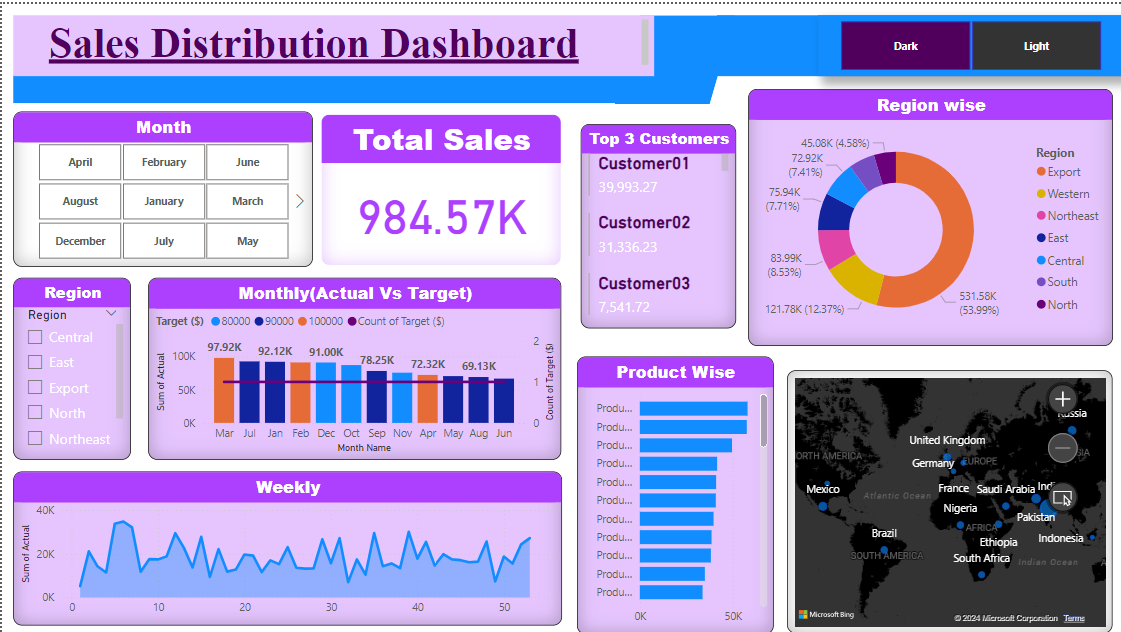

Layout of this report page (visuals, bound fields, positions):
{"tool":"powerbi","page":{"name":"Page 1","canvas":[1280,720],"ordinal":0},"visuals":[{"type":"slicer","title":"Month","fields":{"Values":["InputData.Month Name"]},"box":[12.2,122.3,342.4,177.3],"z":0},{"type":"card","title":"Total Sales","fields":{"Values":["Sum(InputData.Actual)"]},"box":[364.4,126,275.1,173.6],"z":1000},{"type":"slicer","title":"Region","fields":{"Values":["Country.Region"]},"box":[12.2,313,134.5,207.9],"z":2000},{"type":"lineStackedColumnComboChart","title":"Monthly(Actual Vs Target)","fields":{"Category":["TargetData.Month Name"],"Y":["Sum(InputData.Actual)"],"Series":["TargetData.Target ($)"],"Y2":["CountNonNull(TargetData.Target ($))"]},"box":[167.5,313,472,207.9],"z":3000},{"type":"areaChart","title":"Weekly","fields":{"Category":["InputData.Week of Year"],"Y":["Sum(InputData.Actual)"]},"box":[12.2,534.4,627.3,176.1],"z":4000},{"type":"multiRowCard","title":"Top 3 Customers","fields":{"Values":["Country.Customer Name","Sum(InputData.Actual)"]},"box":[661.1,136.7,177.8,233.3],"z":5000},{"type":"clusteredBarChart","title":"Product Wise","fields":{"Category":["InputData.PRODUCT"],"Y":["Sum(InputData.Actual)"]},"box":[656.7,402.2,224.4,317.8],"z":6000},{"type":"donutChart","title":"Region wise","fields":{"Category":["Country.Region"],"Y":["Sum(InputData.Actual)"]},"box":[852.3,97.8,417,293.5],"z":7000},{"type":"map","fields":{"Category":["Country.Country"],"Size":["Sum(InputData.Actual)"]},"box":[897,419,372,301],"z":8000},{"type":"shape","box":[12.2,81.9,772.8,31.8],"z":9000},{"type":"shape","box":[816.9,12.2,463.5,69.7],"z":10000},{"type":"shape","box":[700.7,12.2,138.2,101.5],"z":11000},{"type":"shape","box":[12.2,12.2,732.5,69.7],"z":12000},{"type":"textbox","box":[48.9,12.2,695.8,63.6],"z":13000},{"type":"slicer","fields":{"Values":["Theme.Theme"]},"box":[933,12.2,347.3,69.7],"z":14000}]}

Visuals, with their boxes in screenshot pixels (x1, y1, x2, y2), scaled from the page's 1280x720 canvas onto the 1121x632 screenshot:
"Month" slicer: [x1=11, y1=107, x2=311, y2=263]
"Total Sales" card: [x1=319, y1=111, x2=560, y2=263]
"Region" slicer: [x1=11, y1=275, x2=128, y2=457]
"Monthly(Actual Vs Target)" lineStackedColumnComboChart: [x1=147, y1=275, x2=560, y2=457]
"Weekly" areaChart: [x1=11, y1=469, x2=560, y2=624]
"Top 3 Customers" multiRowCard: [x1=579, y1=120, x2=735, y2=325]
"Product Wise" clusteredBarChart: [x1=575, y1=353, x2=772, y2=631]
"Region wise" donutChart: [x1=746, y1=86, x2=1112, y2=343]
map - Country.Country x Sum(InputData.Actual): [x1=786, y1=368, x2=1111, y2=631]
shape: [x1=11, y1=72, x2=687, y2=100]
shape: [x1=715, y1=11, x2=1120, y2=72]
shape: [x1=614, y1=11, x2=735, y2=100]
shape: [x1=11, y1=11, x2=652, y2=72]
textbox: [x1=43, y1=11, x2=652, y2=67]
slicer - Theme.Theme: [x1=817, y1=11, x2=1120, y2=72]
